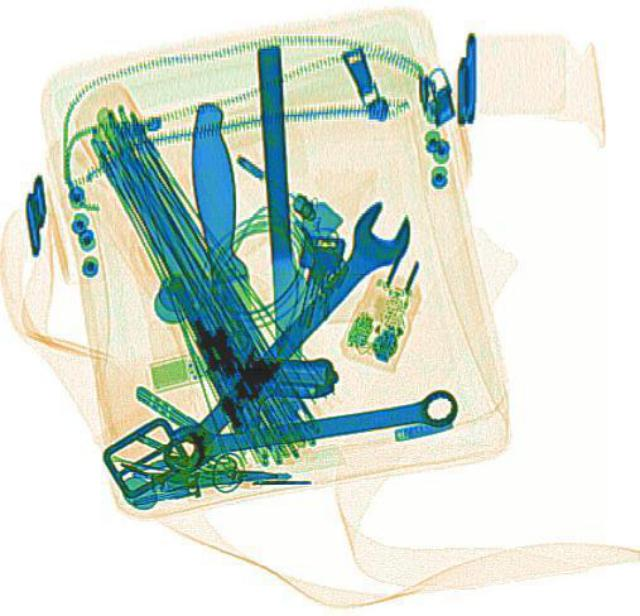Gun: (186, 312, 334, 398)
Knife: (180, 99, 266, 423), (255, 42, 303, 410)
Wrench: (143, 193, 424, 483), (166, 379, 460, 472)
